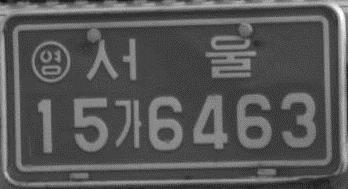1: (32, 96, 60, 155)
3: (280, 90, 317, 148)
4: (191, 91, 229, 151)
5: (70, 94, 109, 154)
6: (235, 91, 273, 152), (146, 93, 184, 151)
가: (113, 96, 145, 152)
서울_D: (84, 31, 257, 83)
영: (32, 38, 73, 84)
